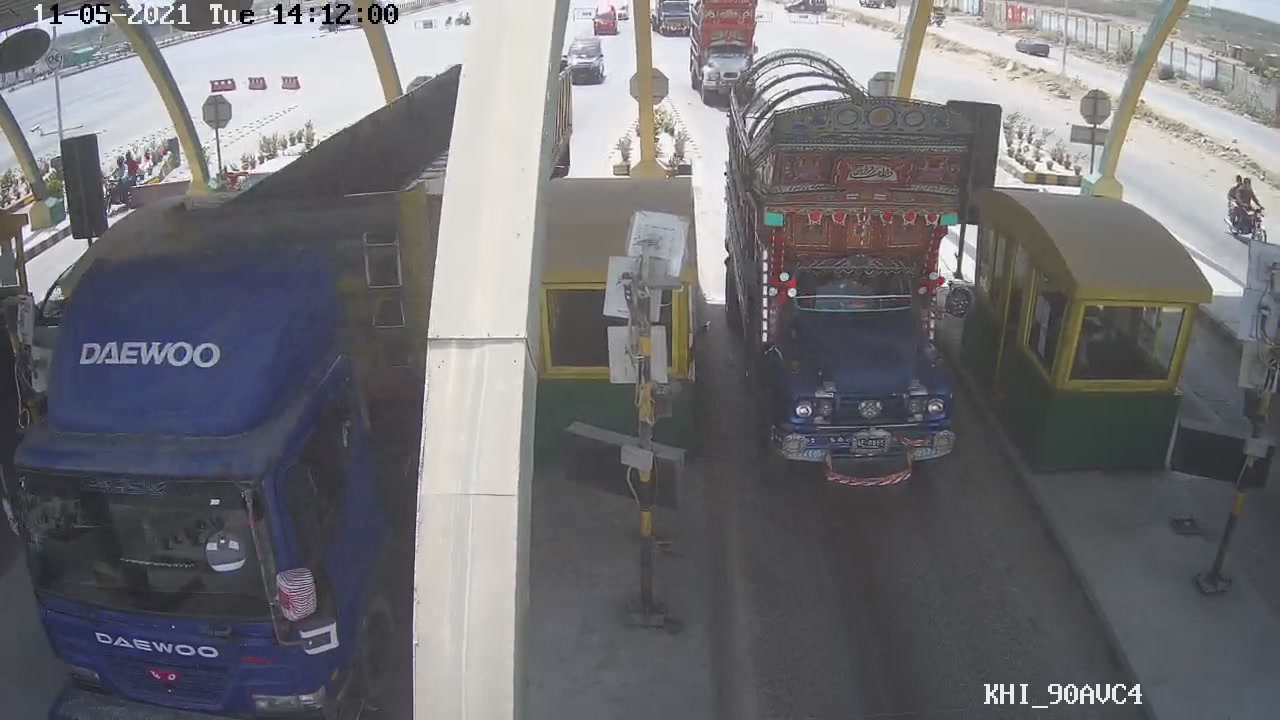F5: (717, 65, 991, 496)
